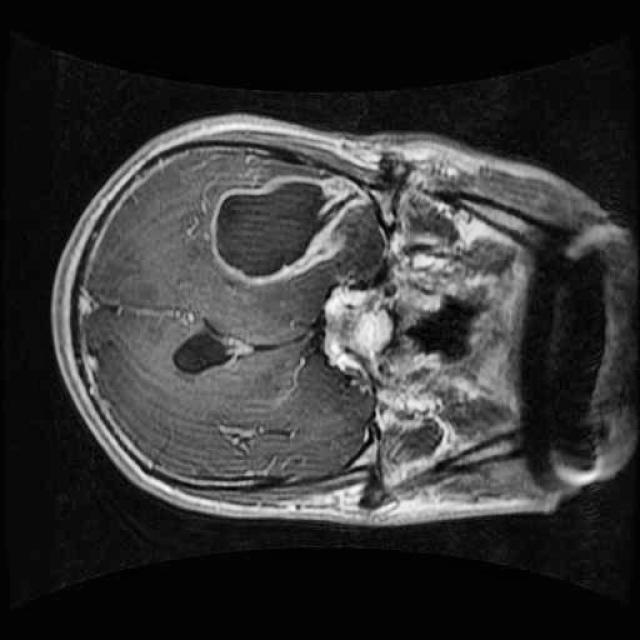Tumor: (199, 165, 370, 299)
